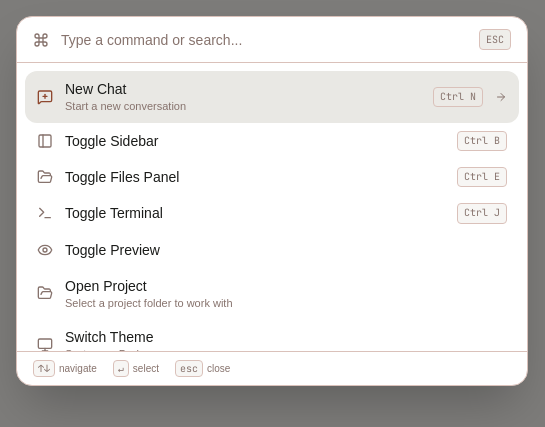
CommandPalette › shows no results message when query matches nothing
Step 1. Type "zzzzzznonexistent" into the field with placeholder "Type a command or search..." → (264, 40), box top-left (61, 30), bottom-right (467, 50)
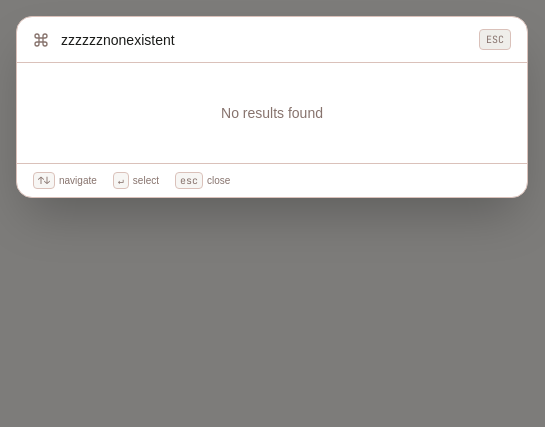
Expected: the text "No results found" is shown, top-left (221, 105), bottom-right (323, 121)
